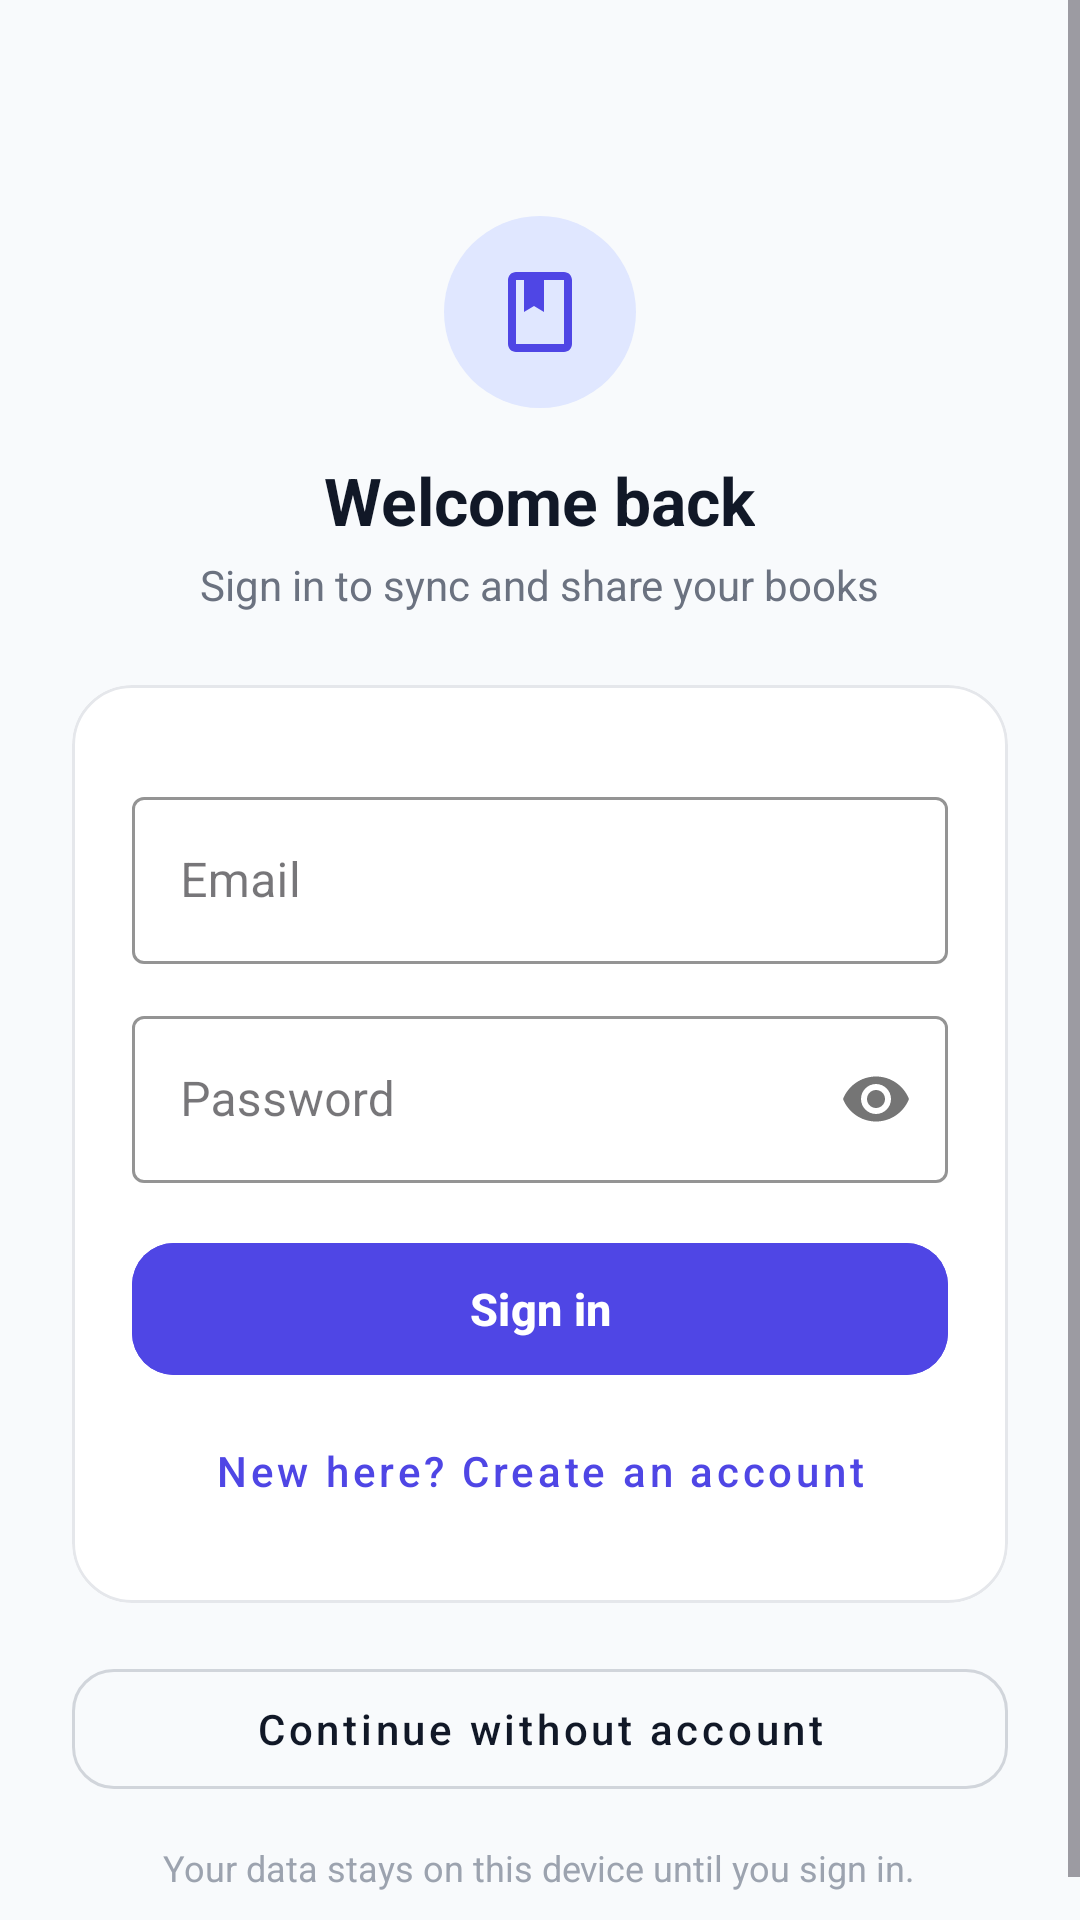

Icon click points for this 1080x1920 phone screenshot, format point (x, y):
book decor: point (540, 312)
